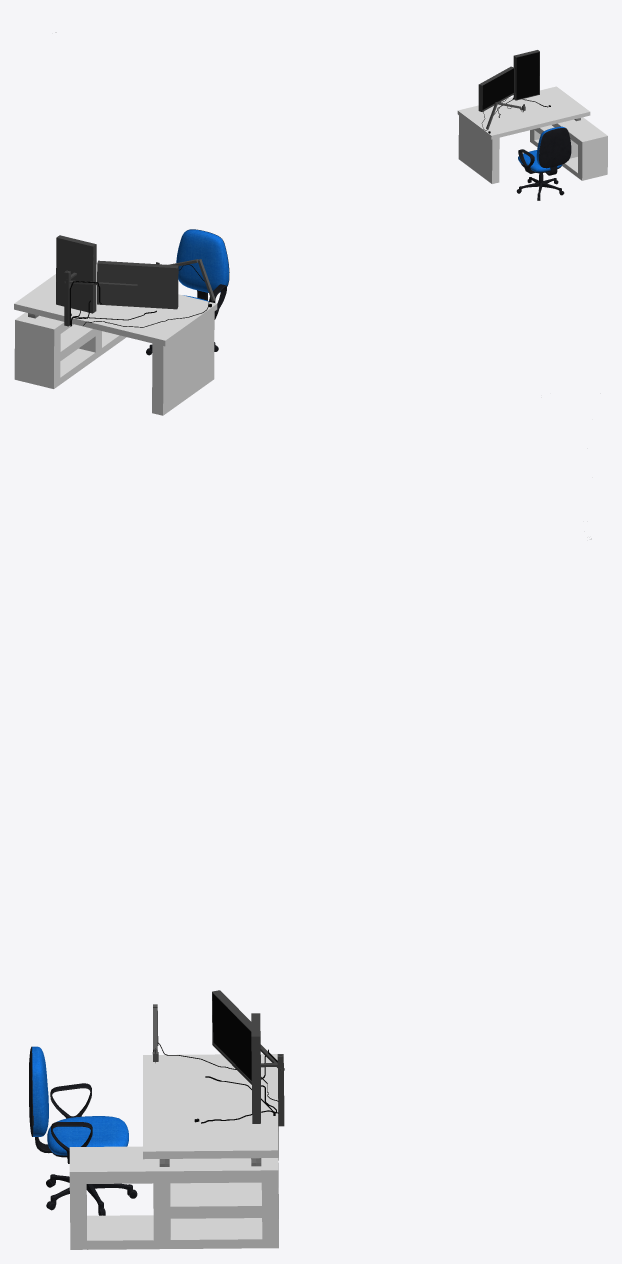
Rendered from room_level4_group_08_lev1.glb.
3 views of the same model, one above another, from view 1: azimuth 30°, elevation 25°; view 2: azimuth 150°, elevation 25°; view 3: azimuth 270°, elevation 25° (orthographic). The views are drawn at different scales.
Parts seen in each view (by area): view 1: Object_5, defaultMaterial, Object_3, Object_4, Object_2; view 2: Object_5, Object_4, defaultMaterial, Object_2; view 3: Object_5, defaultMaterial, Object_4, Object_3.
Boxes of the visible parts, x1,y1,x2,y2 form: Object_5: (457,86,607,183); defaultMaterial: (516,126,571,200); Object_3: (482,52,539,133); Object_4: (478,50,539,111); Object_2: (481,98,550,130); Object_5: (14,263,217,415); Object_4: (56,235,178,326); defaultMaterial: (146,229,229,355); Object_2: (69,259,215,327); Object_5: (69,1054,278,1249); defaultMaterial: (29,1046,137,1215); Object_4: (155,990,284,1126); Object_3: (212,993,275,1115).
Bounding box in the file's own units: 68.19 × 25.13 × 35.83.
Materials: 6 (5 with a texture image).
